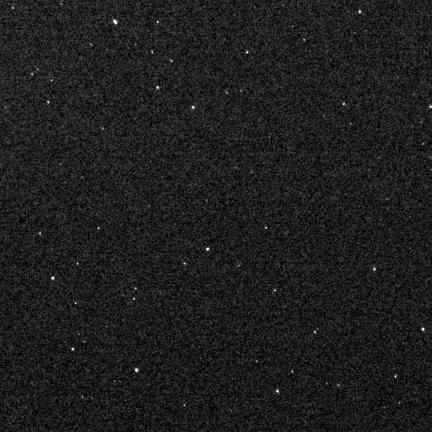blob: (276, 389, 280, 394), (206, 248, 210, 252), (113, 20, 117, 24), (156, 86, 160, 90), (135, 368, 138, 372), (359, 10, 362, 14), (422, 328, 425, 332), (52, 277, 55, 281), (47, 101, 50, 104), (72, 348, 75, 351), (246, 51, 249, 54), (192, 106, 194, 109), (395, 375, 397, 378)
